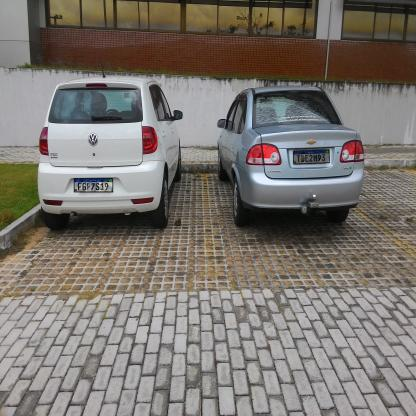PlacaM: (74, 178, 113, 192), (293, 150, 330, 164)
